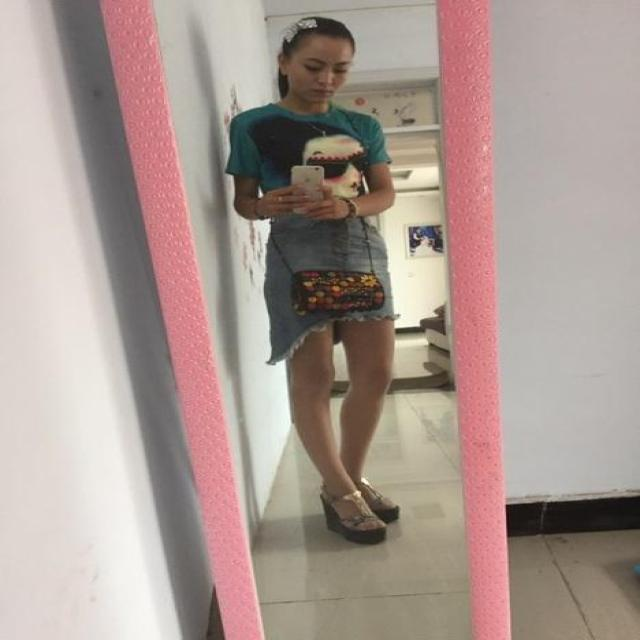short sleeve top: (226, 103, 390, 216)
skirt: (265, 207, 397, 366)
